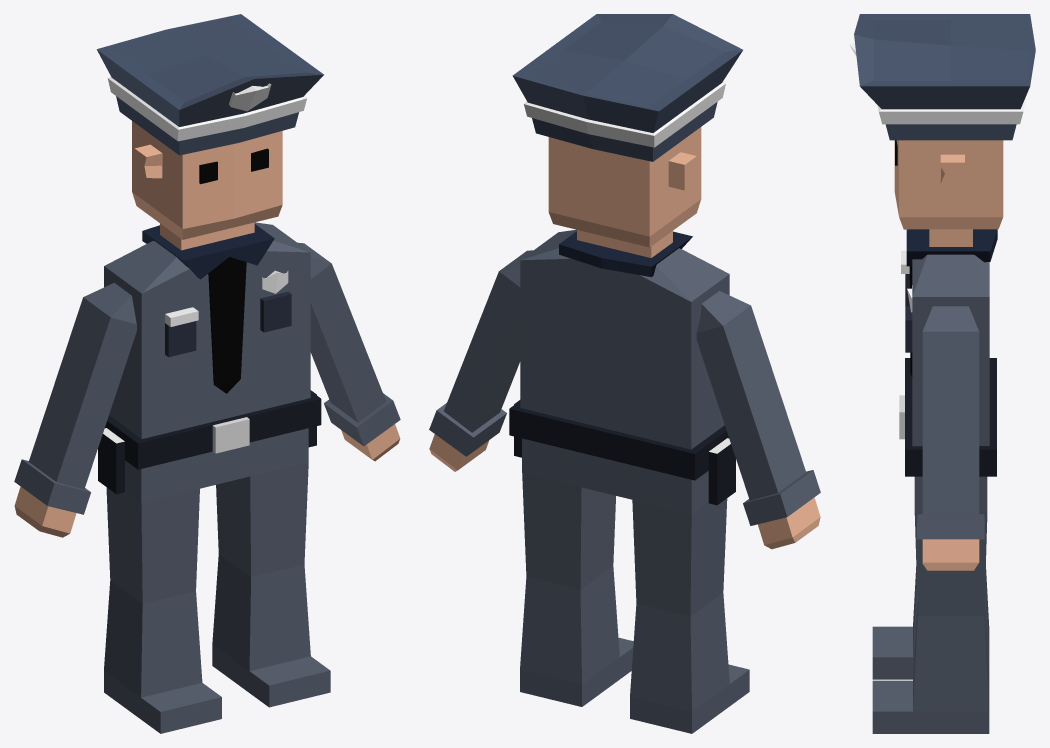
The model's file is Low_Poly_Policeman.glb.
3 renders of one model, left to right at view 1: azimuth 30°, elevation 25°; view 2: azimuth 150°, elevation 25°; view 3: azimuth 270°, elevation 25°, orthographic. The views are drawn at different scales.
Visible parts, largest first — view 1: neck_Body_0, neck_Cap_0, neck_Skin_0, neck_Belt_0, neck_Eyes_0, neck_Base Material_0, neck_Neck_0, neck_Pocket_0, neck_White_0; view 2: neck_Body_0, neck_Cap_0, neck_Skin_0, neck_Belt_0, neck_Base Material_0, neck_Neck_0; view 3: neck_Body_0, neck_Cap_0, neck_Skin_0, neck_Base Material_0, neck_Belt_0, neck_Neck_0, neck_Pocket_0.
Boxes of the visible parts, <box> form: neck_Body_0: <box>14,222,400,733</box>; neck_Cap_0: <box>97,14,323,155</box>; neck_Skin_0: <box>14,121,400,537</box>; neck_Belt_0: <box>98,390,321,494</box>; neck_Eyes_0: <box>199,148,268,393</box>; neck_Base Material_0: <box>103,77,306,443</box>; neck_Neck_0: <box>142,224,274,279</box>; neck_Pocket_0: <box>165,291,291,357</box>; neck_White_0: <box>212,417,249,453</box>; neck_Body_0: <box>429,229,820,733</box>; neck_Cap_0: <box>512,14,742,161</box>; neck_Skin_0: <box>429,127,820,549</box>; neck_Belt_0: <box>509,400,735,505</box>; neck_Base Material_0: <box>524,82,730,453</box>; neck_Neck_0: <box>559,231,692,277</box>; neck_Body_0: <box>872,254,989,733</box>; neck_Cap_0: <box>854,14,1035,140</box>; neck_Skin_0: <box>894,140,1003,570</box>; neck_Base Material_0: <box>849,43,1026,312</box>; neck_Belt_0: <box>905,358,996,476</box>; neck_Neck_0: <box>906,229,997,266</box>; neck_Pocket_0: <box>905,274,912,352</box>.
Size of the model in its own units: 1.16 by 1.98 by 0.5093.
